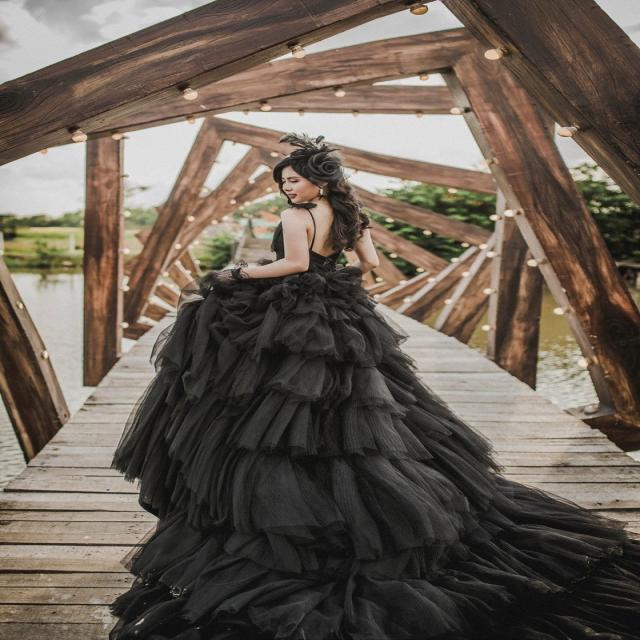clothes: (156, 198, 471, 482)
